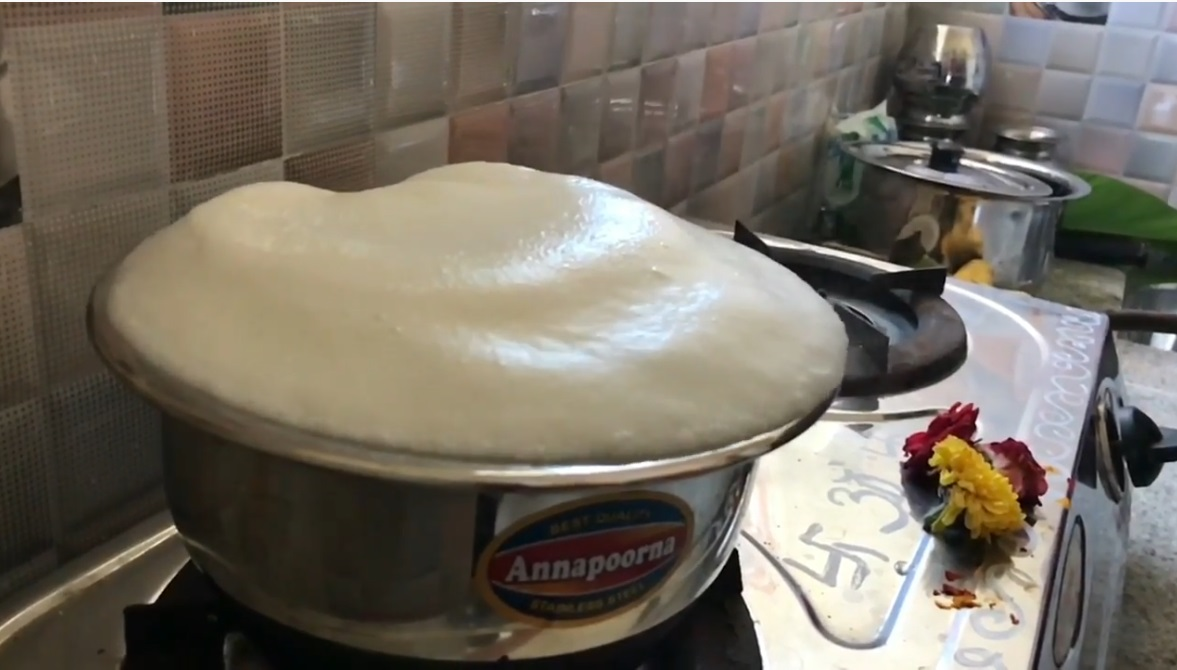Boiled: (83, 152, 867, 629)
